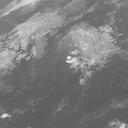cyclone: (62, 25, 113, 75)
